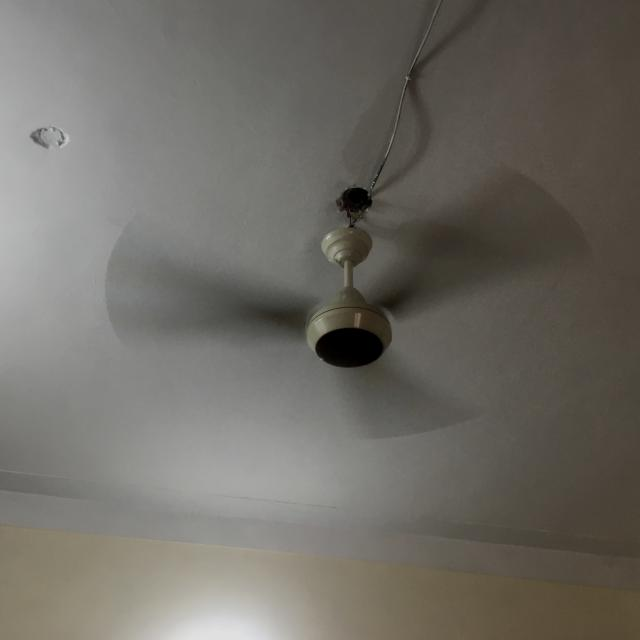on: (91, 150, 602, 455)
